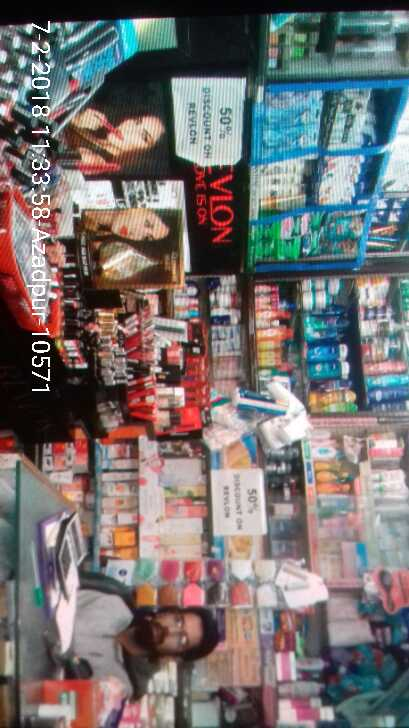venus: (266, 128, 316, 152), (266, 107, 320, 128), (269, 92, 320, 107)
